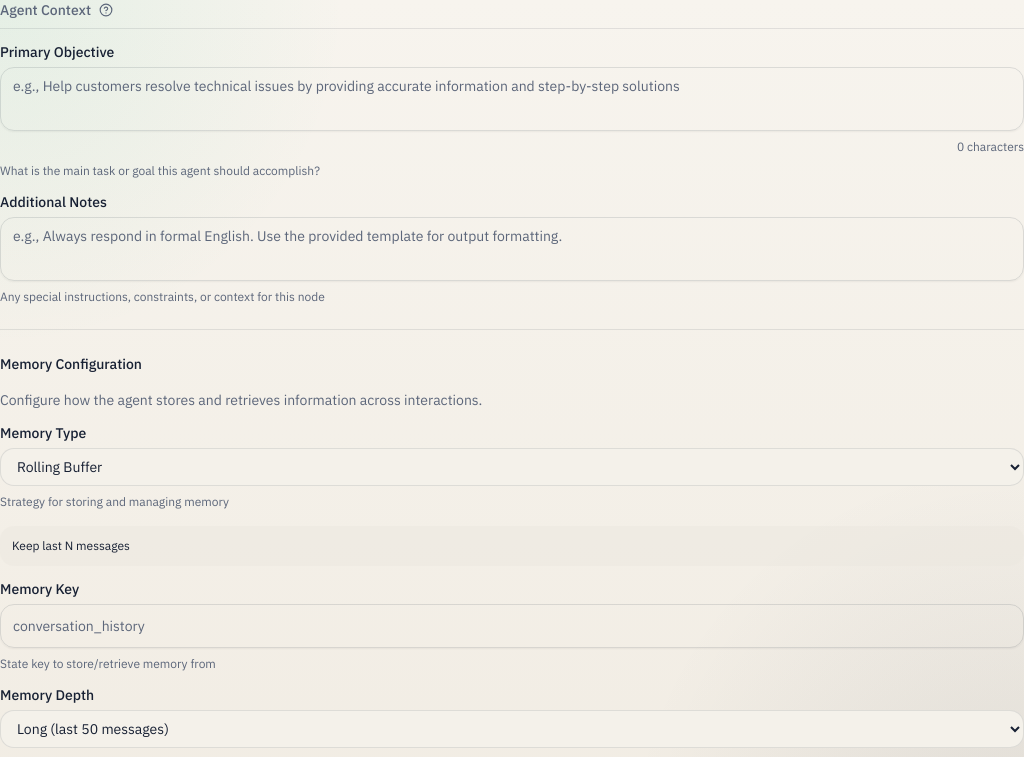
Test: MemoryNodeForm › Switching Memory Types › should hide buffer fields when switching from buffer to conversation
Expected: the dropdown labelled "Memory Depth" is shown, [0,710,1023,748]
Select "Conversation Buffer" in the dropdown labelled "Memory Type" at [512, 467], box [0,448,1023,486]
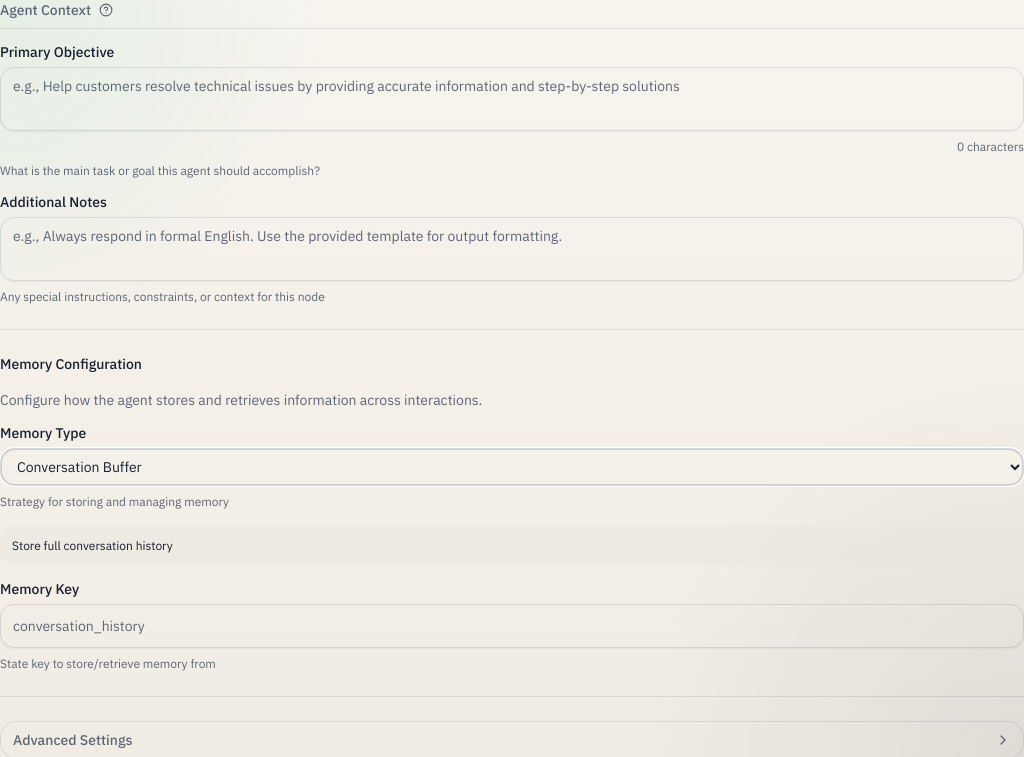
Now the label labelled "Memory Depth" is gone
